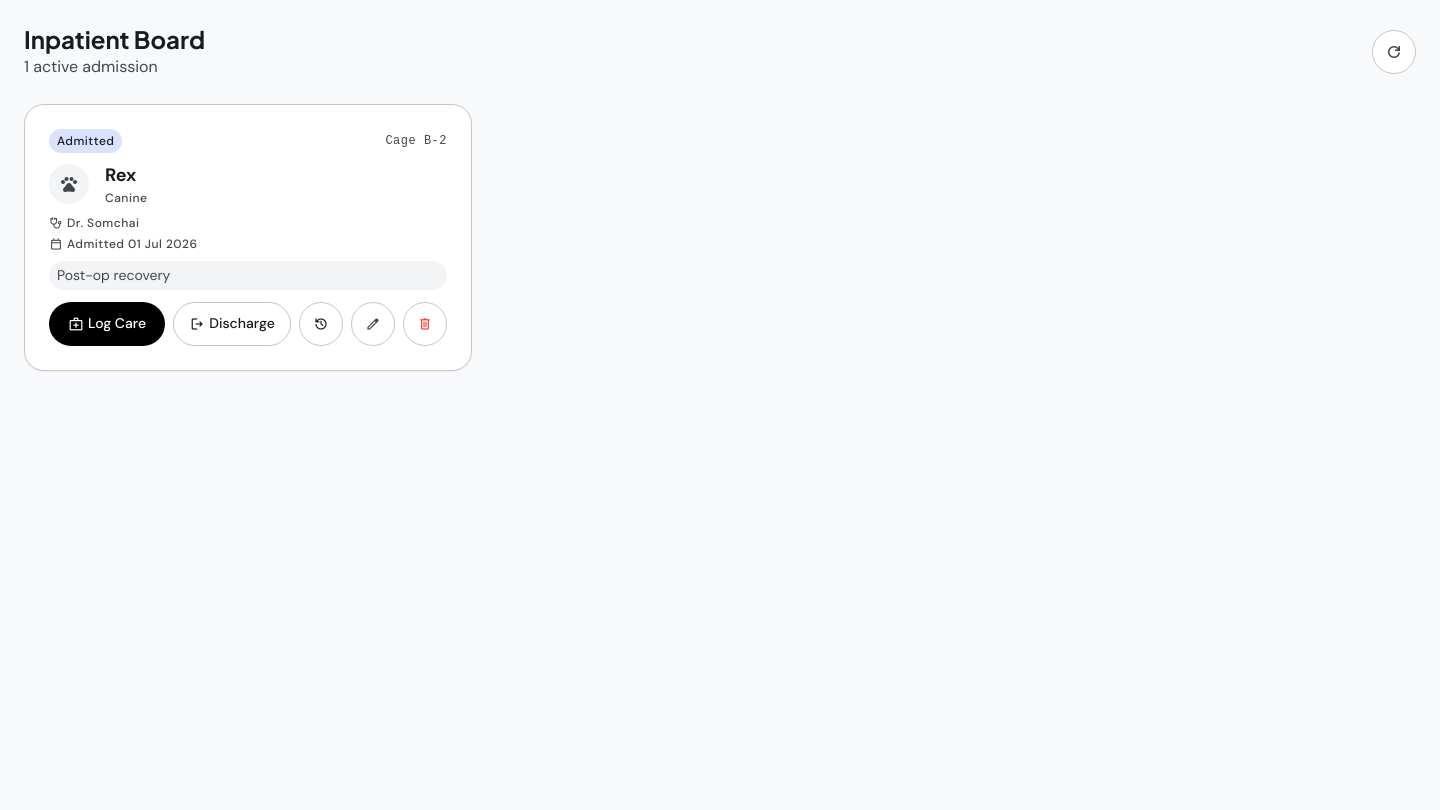
Test: ClinicInpatient — Care History modal (LCV-1) › renders care-log rows with correct field values, "—" for null fields
The width and height of the screenshot is (1440, 810).
Expected: the text "Rex" is shown, [105, 163, 136, 187]
Click the button named "View care history": (321, 324) [299, 302, 343, 346]
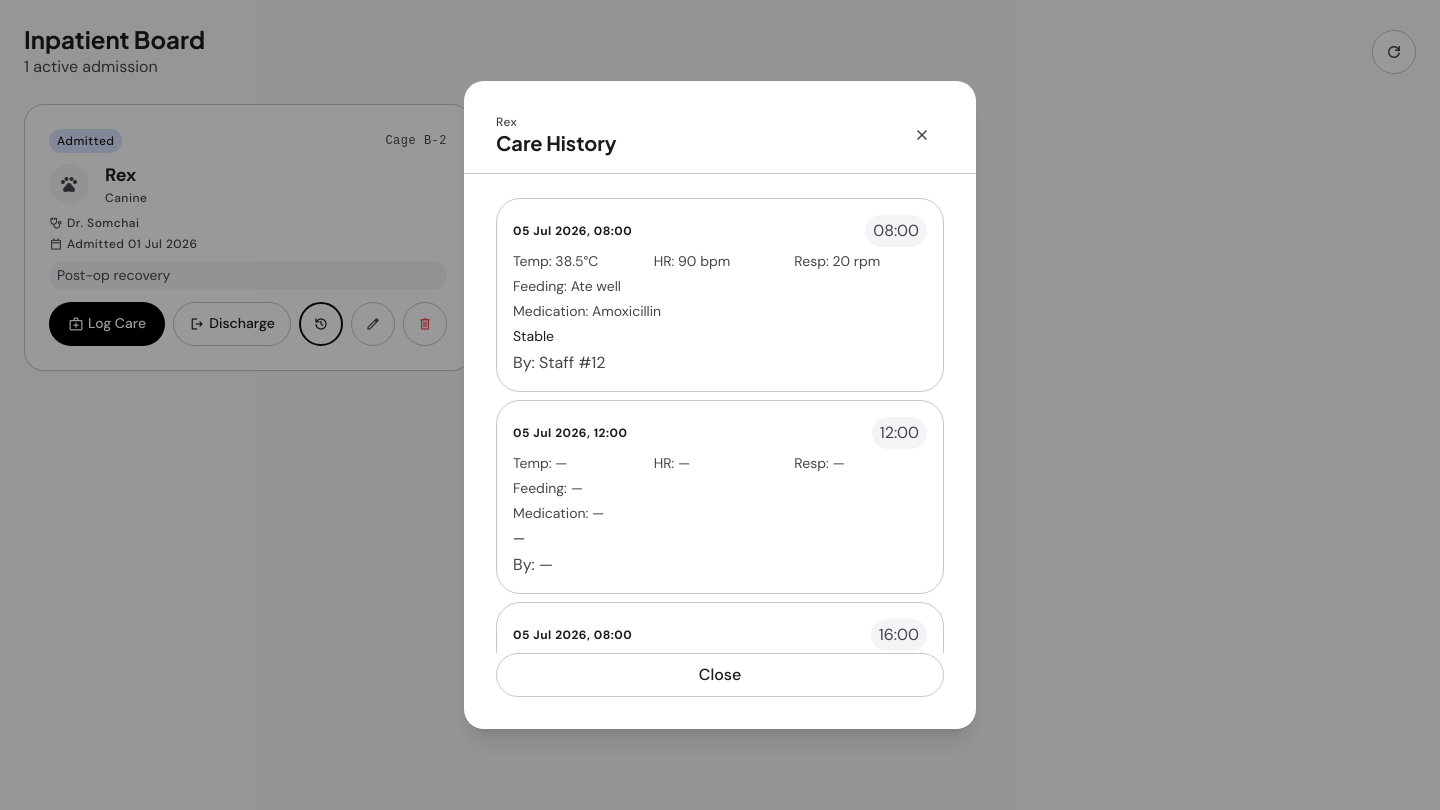
Expected: the text "Temp: 38.5°C" is shown, [513, 252, 598, 270]
Expected: the text "HR: 90 bpm" is shown, [654, 252, 730, 270]
Expected: the text "Resp: 20 rpm" is shown, [794, 252, 880, 270]
